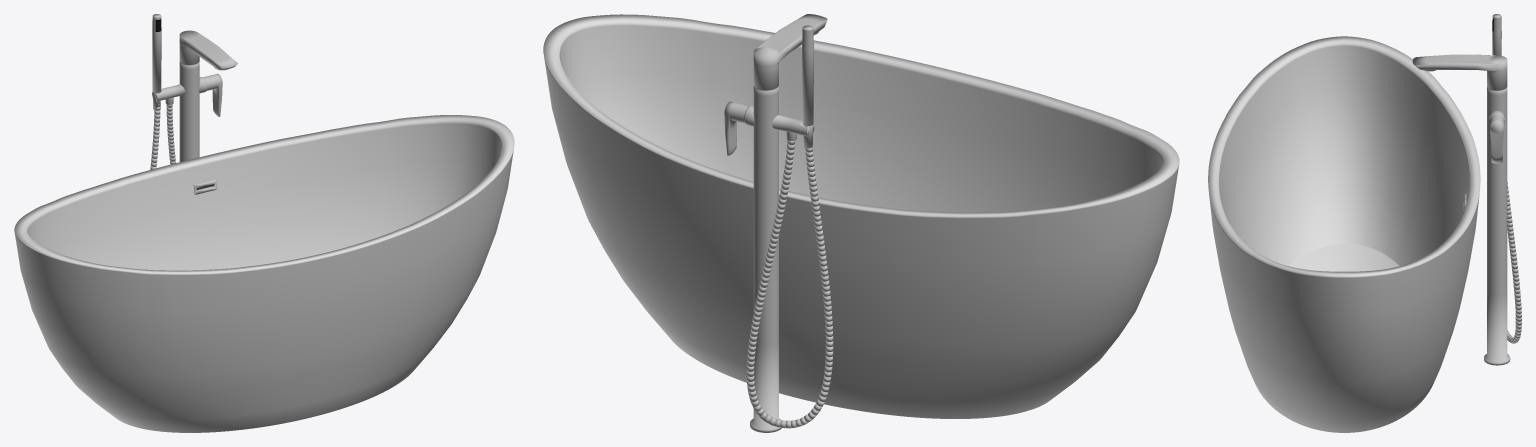
Rendered from scopia-islandBath-quality-v2.glb.
3 renders of one model, left to right at view 1: azimuth 30°, elevation 25°; view 2: azimuth 150°, elevation 25°; view 3: azimuth 270°, elevation 25°, orthographic. The views are drawn at different scales.
Parts seen in each view (by area): view 1: bath_Circle, fixedTap_Cylinder, chain_Cylinder.003, handleTap_Cylinder.002; view 2: bath_Circle, fixedTap_Cylinder, chain_Cylinder.003, handleTap_Cylinder.002; view 3: bath_Circle, fixedTap_Cylinder, chain_Cylinder.003, handleTap_Cylinder.002.
Boxes of the visible parts, left/top/right/bottom form: bath_Circle: left=14, top=115, right=514, bottom=432; fixedTap_Cylinder: left=152, top=30, right=237, bottom=161; chain_Cylinder.003: left=150, top=104, right=175, bottom=169; handleTap_Cylinder.002: left=152, top=14, right=161, bottom=92; bath_Circle: left=543, top=14, right=1179, bottom=418; fixedTap_Cylinder: left=724, top=14, right=827, bottom=432; chain_Cylinder.003: left=746, top=140, right=833, bottom=428; handleTap_Cylinder.002: left=802, top=25, right=813, bottom=125; bath_Circle: left=1208, top=36, right=1480, bottom=432; fixedTap_Cylinder: left=1412, top=54, right=1510, bottom=365; chain_Cylinder.003: left=1507, top=182, right=1521, bottom=343; handleTap_Cylinder.002: left=1492, top=14, right=1501, bottom=55.
Bounding box in the file's own units: 1.7 × 1.08 × 0.937.
Materials: 9 (1 with a texture image).
